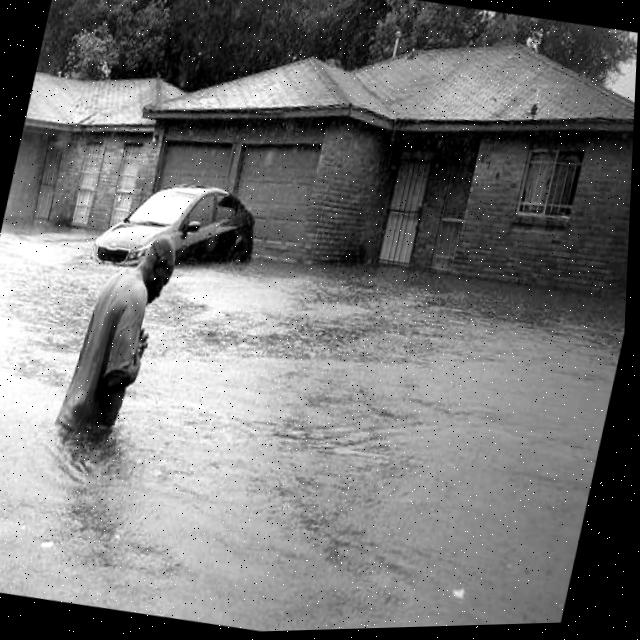civilian: (27, 212, 201, 472)
